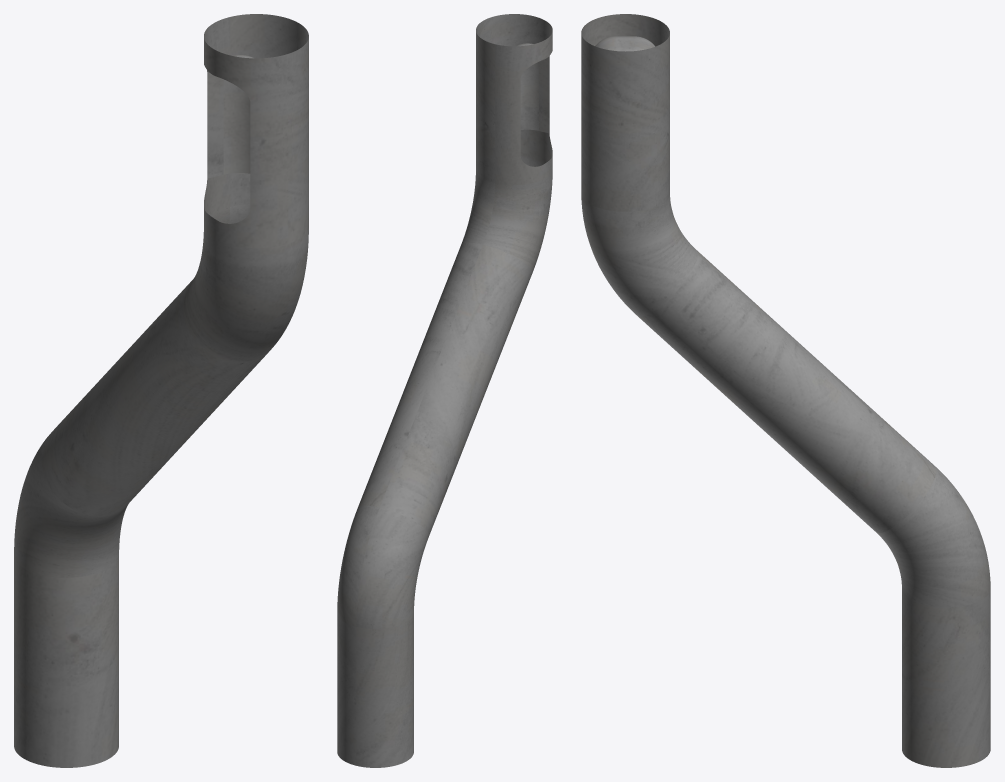
The model's file is cenicero.glb.
3 renders of one model, left to right at view 1: azimuth 30°, elevation 25°; view 2: azimuth 150°, elevation 25°; view 3: azimuth 270°, elevation 25°, orthographic. The views are drawn at different scales.
Parts seen in each view (by area): view 1: cenicero; view 2: cenicero; view 3: cenicero.
Boxes of the visible parts, x1=… form: cenicero: x1=14, y1=14, x2=308, y2=767; cenicero: x1=337, y1=14, x2=552, y2=767; cenicero: x1=581, y1=14, x2=990, y2=767.
Bounding box in the file's own units: 0.0508 × 0.4526 × 0.2344.
Materials: 1 (1 with a texture image).
